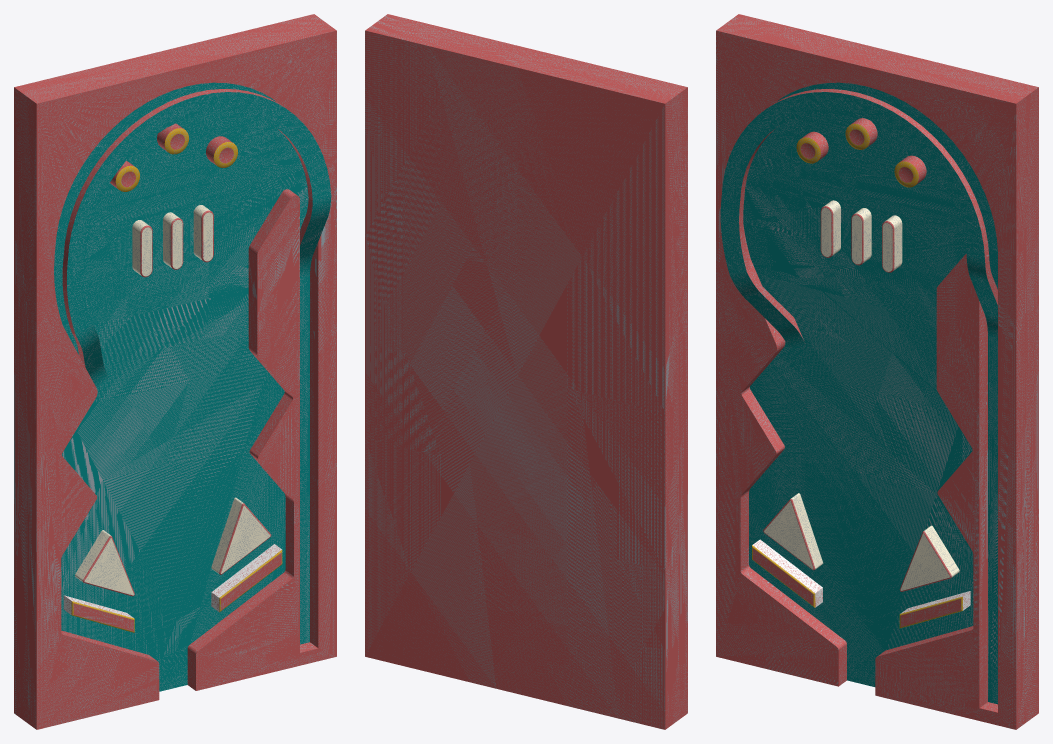
Rendered from pinball2.dae.
3 views of the same model, side by side, from view 1: azimuth 30°, elevation 25°; view 2: azimuth 150°, elevation 25°; view 3: azimuth 330°, elevation 25° (orthographic).
Parts seen in each view (by area): view 1: SketchUp (×11); view 2: SketchUp; view 3: SketchUp (×12).
Part boxes in pixels (x1,y1,x2,y2): SketchUp (×11): [14, 14, 336, 729]; SketchUp: [365, 14, 687, 729]; SketchUp (×12): [716, 14, 1038, 729].
Size of the model in its own units: 4823 by 985 by 9617.
